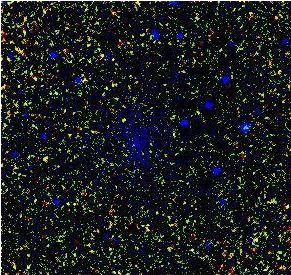star: (109, 105, 139, 135)
